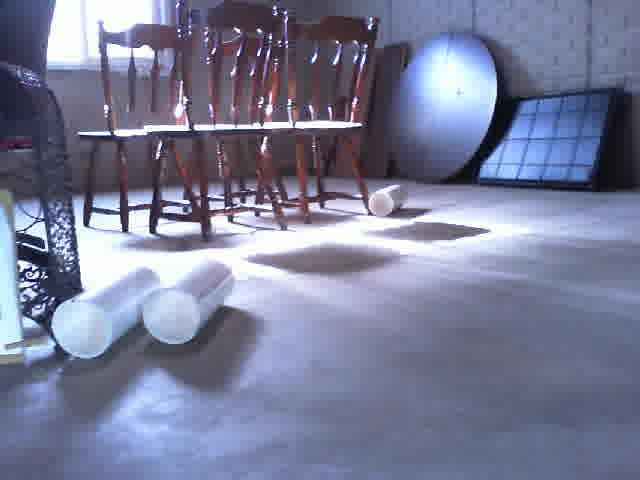coral: (49, 262, 158, 361), (141, 255, 237, 346), (369, 181, 407, 220)
